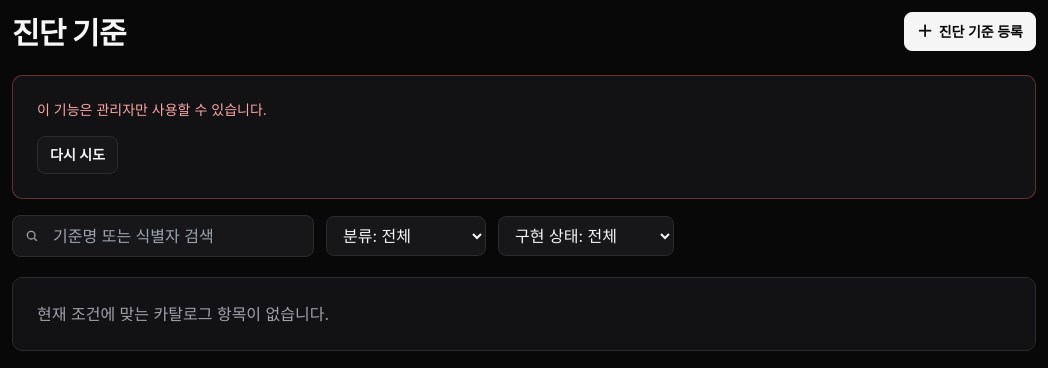
Test: E6 results and catalog pages › shows the documented catalog 403 guidance and supports retry
Expected: the text "이 기능은 관리자만 사용할 수 있습니다." is shown, top-left (37, 101), bottom-right (267, 118)
Click the button "다시 시도" at (78, 155), box top-left (37, 136), bottom-right (118, 174)
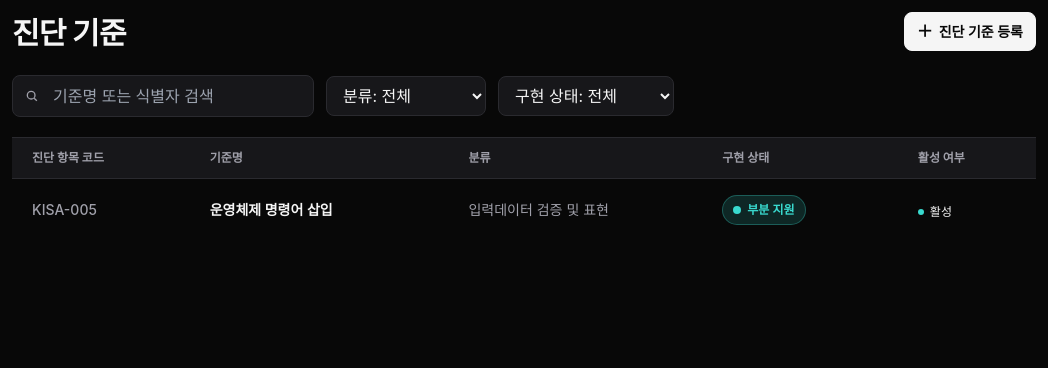
Result: the text "운영체제 명령어 삽입" is shown at top-left (210, 201), bottom-right (333, 218)
